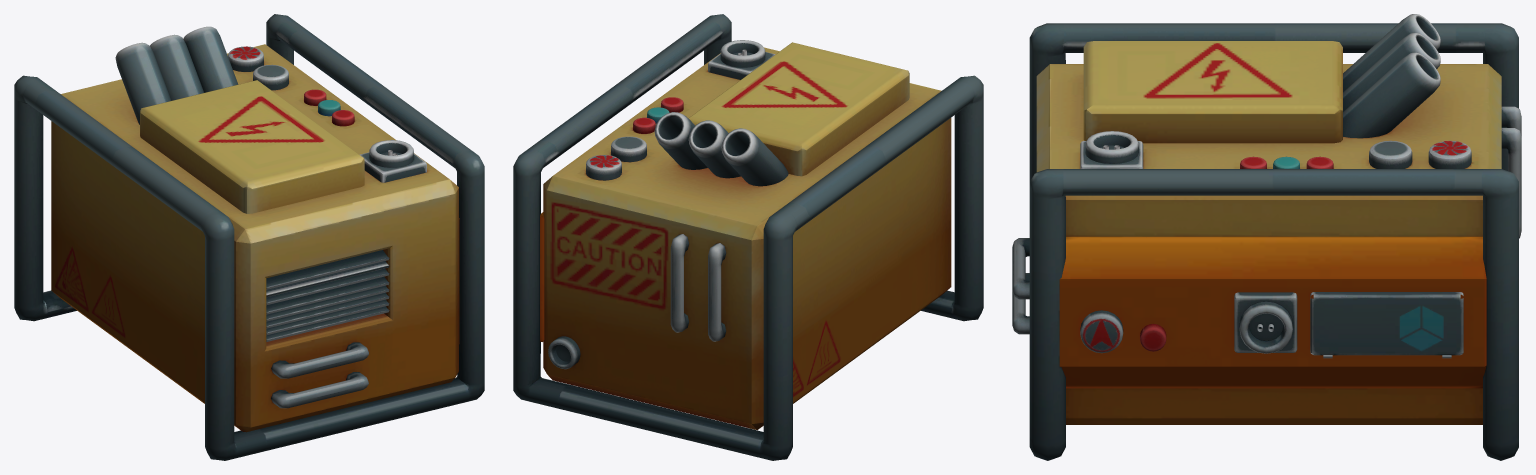
The model's file is Generator.fbx.
The picture shows the model from 3 angles, left to right: view 1: azimuth 30°, elevation 25°; view 2: azimuth 150°, elevation 25°; view 3: azimuth 270°, elevation 25°; orthographic projection. The views are drawn at different scales.
Parts seen in each view (by area): view 1: SM_generator; view 2: SM_generator; view 3: SM_generator.
Boxes of the visible parts, x1=… form: SM_generator: x1=14, y1=14, x2=484, y2=460; SM_generator: x1=513, y1=14, x2=983, y2=460; SM_generator: x1=1012, y1=14, x2=1521, y2=460.
Size of the model in its own units: 121 by 113 by 154.
